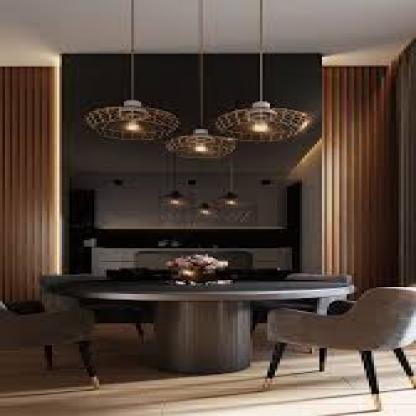Dining Table: (2, 270, 416, 416)
